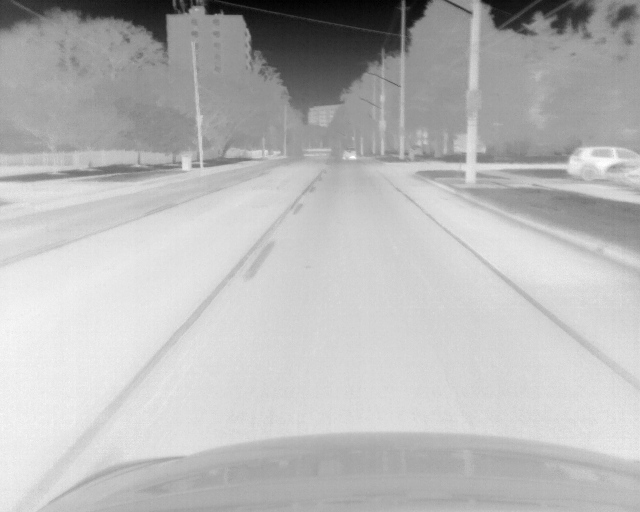car: (565, 145, 640, 183), (607, 158, 640, 191), (342, 147, 356, 161)
